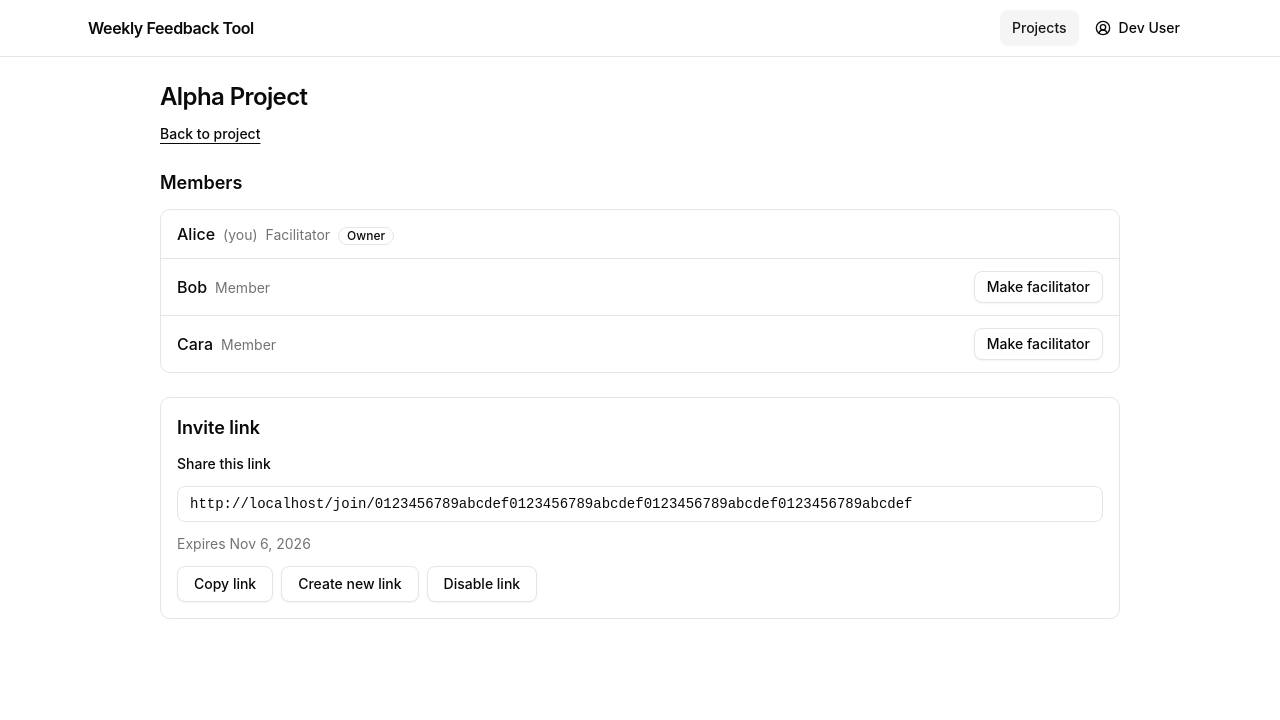
ProjectMembersPage as the owner › copies the link and shows a toast
Click the button "Copy link": (225, 584) [177,566,273,602]
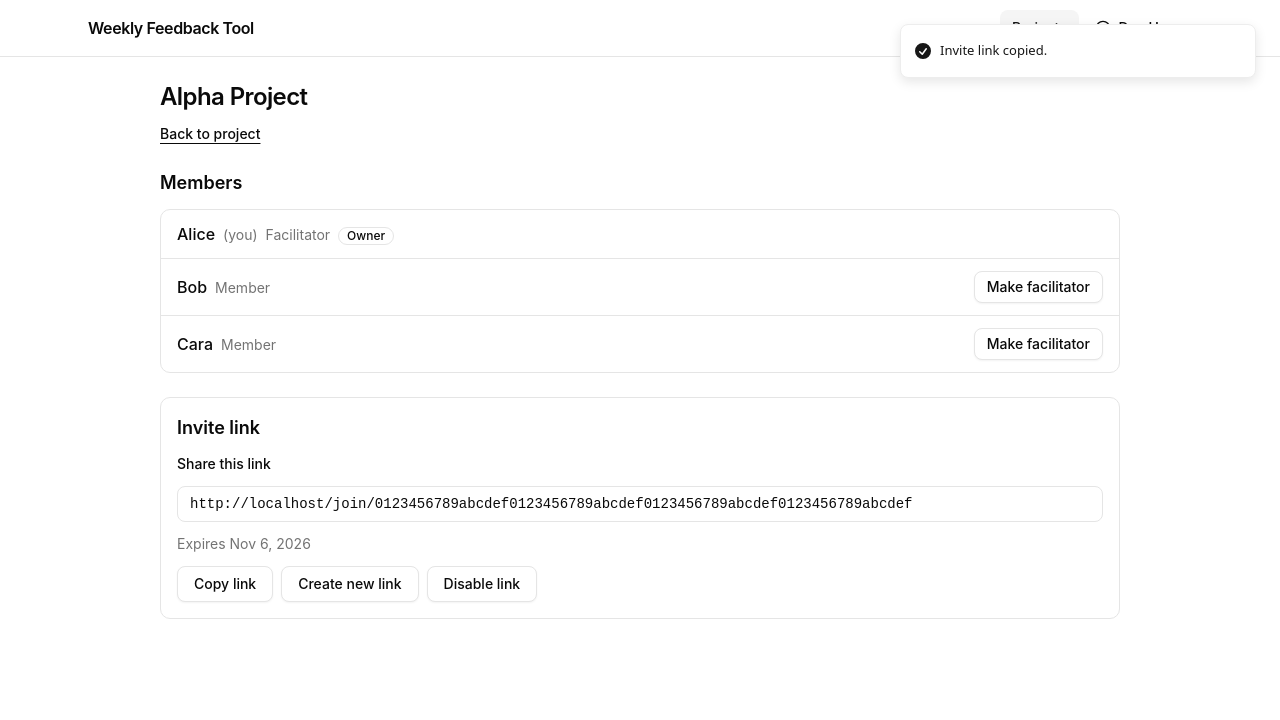
Check: the text "Invite link copied." is shown, box [940,41,1047,60]
